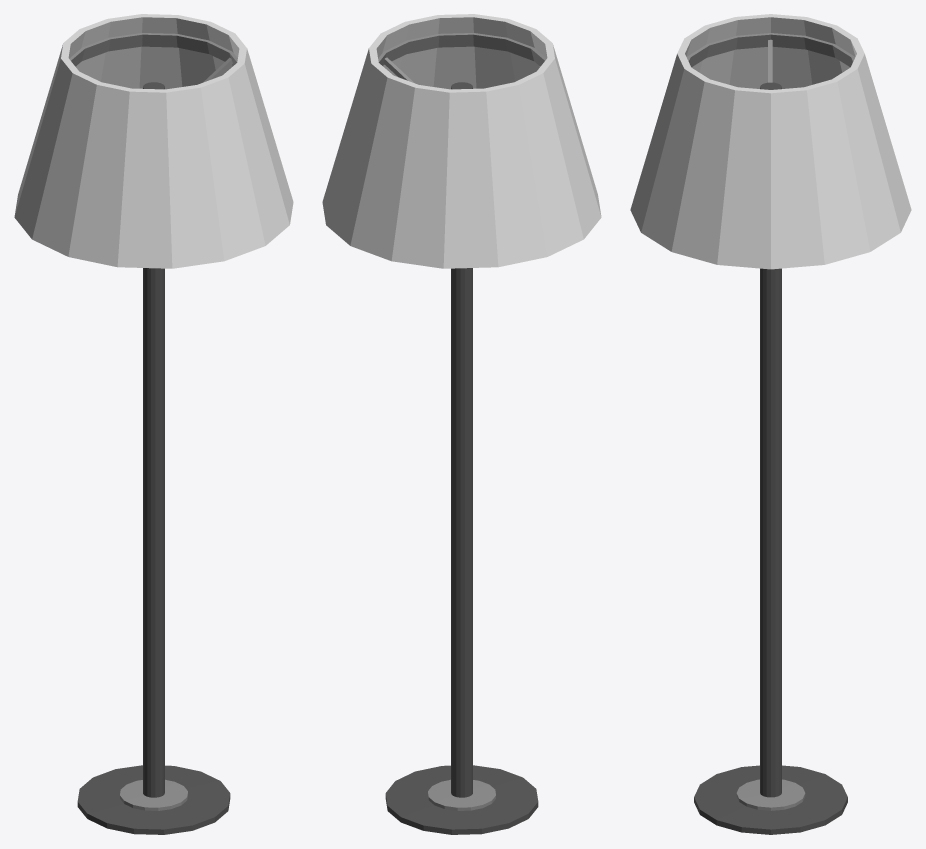
File: lamp.fbx
3 renders of one model, left to right at view 1: azimuth 30°, elevation 25°; view 2: azimuth 150°, elevation 25°; view 3: azimuth 270°, elevation 25°, orthographic.
Parts seen in each view (by area): view 1: lamp; view 2: lamp; view 3: lamp.
Part boxes in pixels (x1,y1,x2,y2): lamp: (14, 14, 293, 834); lamp: (322, 14, 601, 834); lamp: (630, 14, 911, 834).
Bounding box in the file's own units: 36.76 × 108 × 36.76.
Materials: 1 (1 with a texture image).
